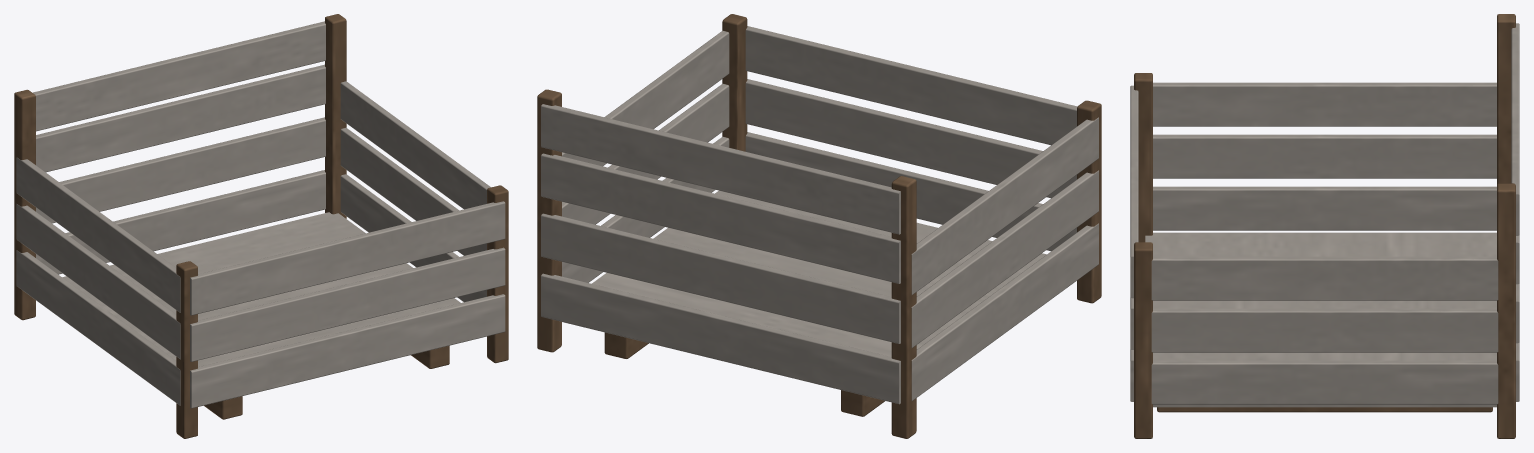
File: Shop_ProduceBin.fbx
3 views of the same model, side by side, from view 1: azimuth 30°, elevation 25°; view 2: azimuth 150°, elevation 25°; view 3: azimuth 270°, elevation 25° (orthographic). The views are drawn at different scales.
Visible parts, largest first — view 1: Shop_ProduceBin; view 2: Shop_ProduceBin; view 3: Shop_ProduceBin.
Part boxes in pixels (left/top/right/bottom): Shop_ProduceBin: left=14, top=14, right=508, bottom=438; Shop_ProduceBin: left=537, top=14, right=1101, bottom=438; Shop_ProduceBin: left=1130, top=14, right=1519, bottom=438.
Bounding box in the file's own units: 1.1 × 0.72 × 1.02.
